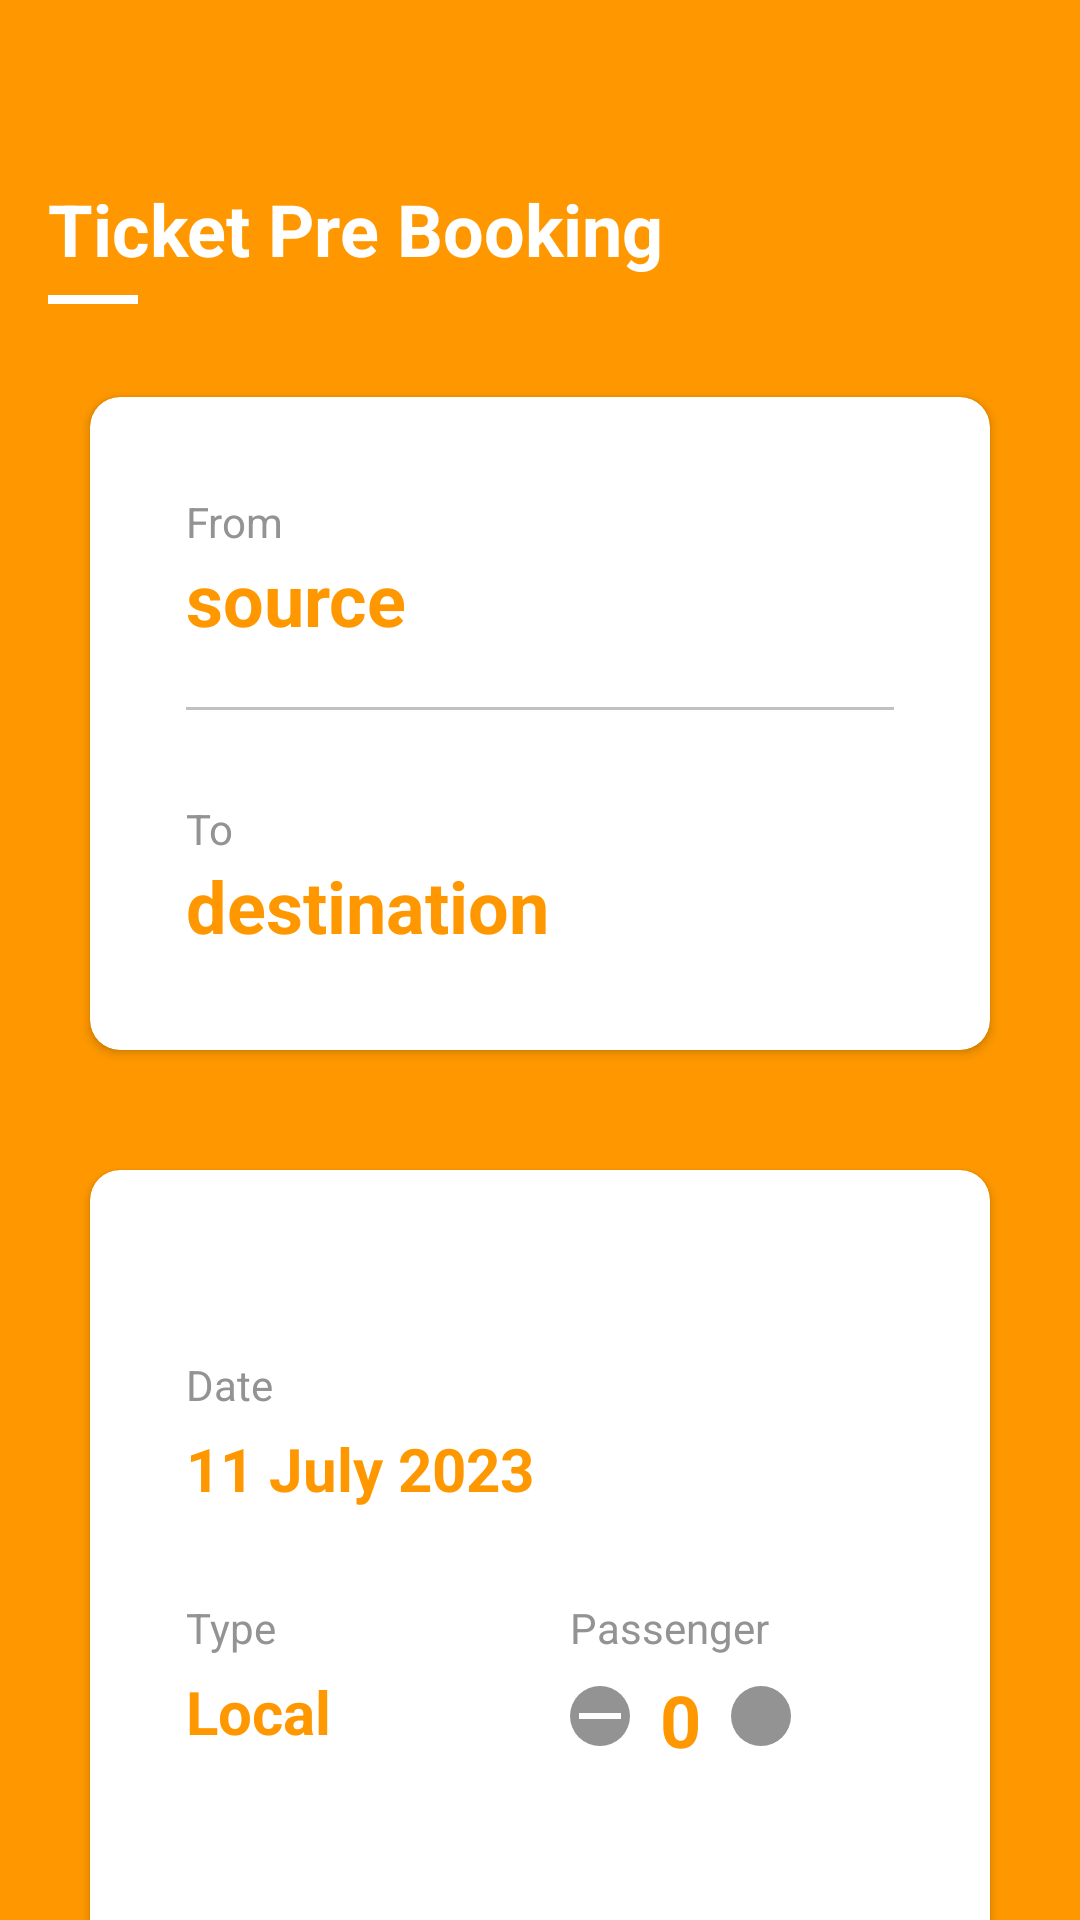

Icons on this 1080w x 1920h Android screen, each with its box as box(x1, y1, x2, y2):
decrement counter: box(570, 1686, 630, 1746)
